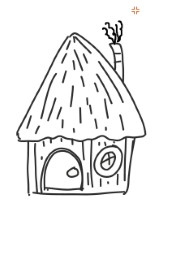closed_window: (91, 143, 125, 179)
door: (40, 146, 88, 195)
roof: (14, 30, 151, 144)
smoking_chimney: (99, 15, 138, 91)
wall: (23, 128, 141, 199)
